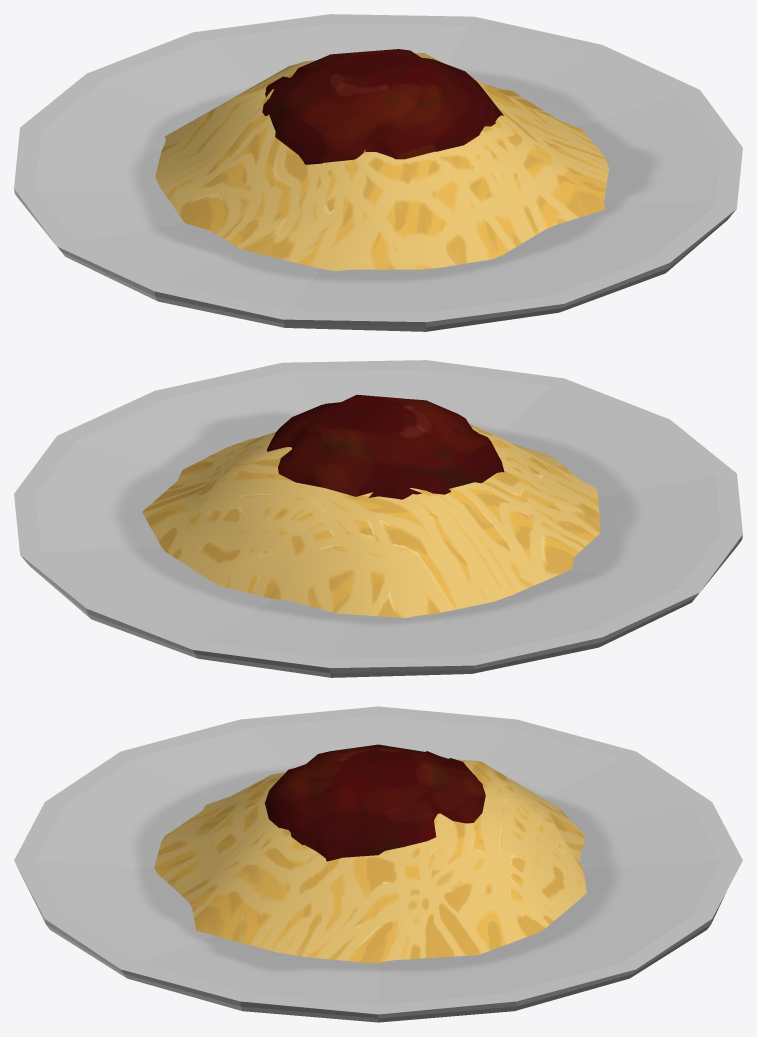
The model's file is Pasta.fbx.
3 views of the same model, one above another, from view 1: azimuth 30°, elevation 25°; view 2: azimuth 150°, elevation 25°; view 3: azimuth 270°, elevation 25° (orthographic).
Parts seen in each view (by area): view 1: Dish, Pasta, Sauce; view 2: Dish, Pasta, Sauce; view 3: Dish, Pasta, Sauce.
Boxes of the visible parts, left/top/right/bottom form: Dish: left=14, top=14, right=742, bottom=331; Pasta: left=155, top=53, right=608, bottom=270; Sauce: left=262, top=49, right=503, bottom=164; Dish: left=14, top=360, right=742, bottom=677; Pasta: left=142, top=424, right=600, bottom=617; Sauce: left=267, top=394, right=504, bottom=499; Dish: left=14, top=706, right=742, bottom=1022; Pasta: left=154, top=759, right=586, bottom=963; Sauce: left=265, top=744, right=485, bottom=861.
Size of the model in its own units: 385 by 81.84 by 385.
